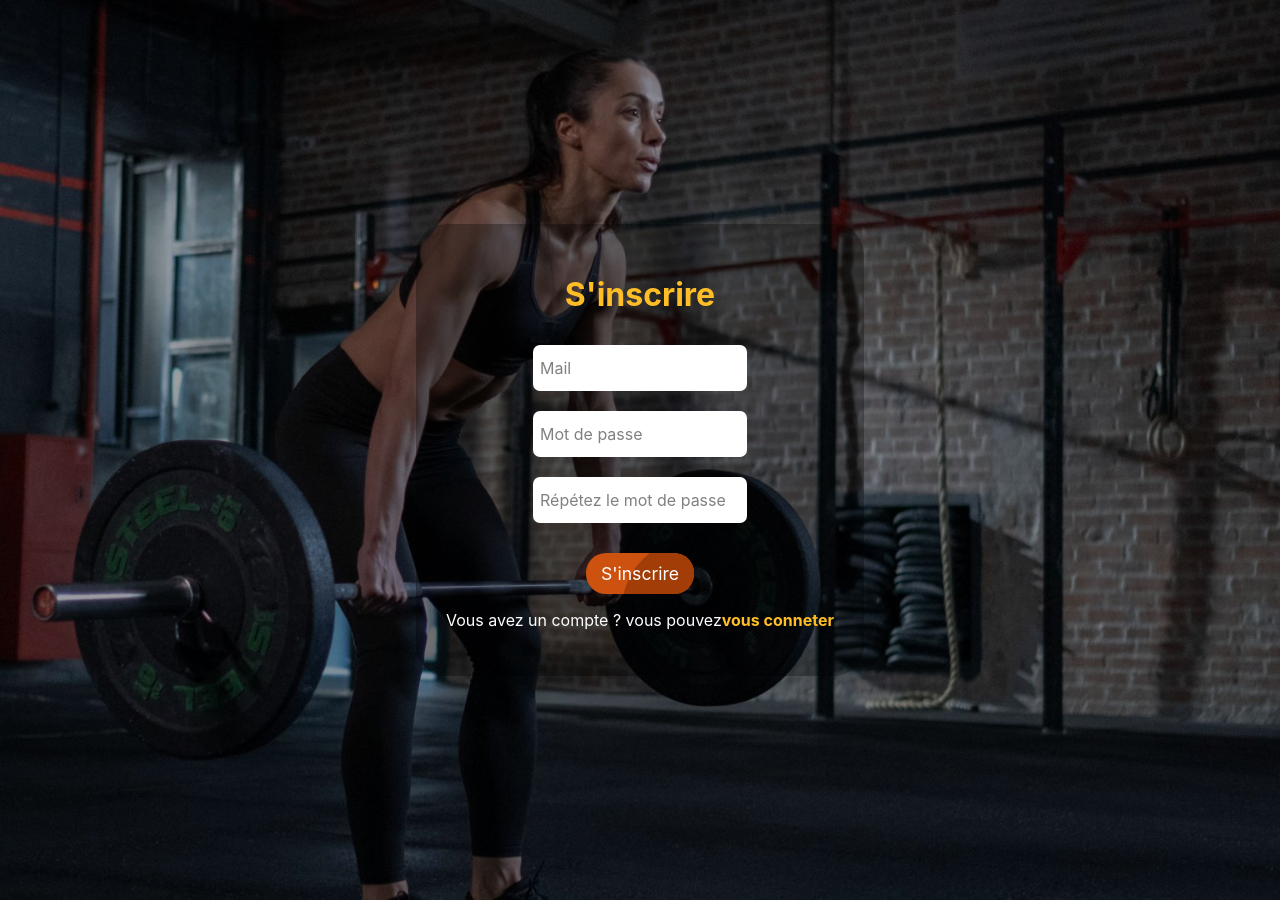
Test case: Signup composent › Err when pass are not the same
The image size is (1280, 900).
Note: user tape deux mots de passes non identiques
Type "uneadressemail@gmail.com" into the field with placeholder "Mail" at coordinates (640, 368), box top-left (533, 345), bottom-right (747, 391)
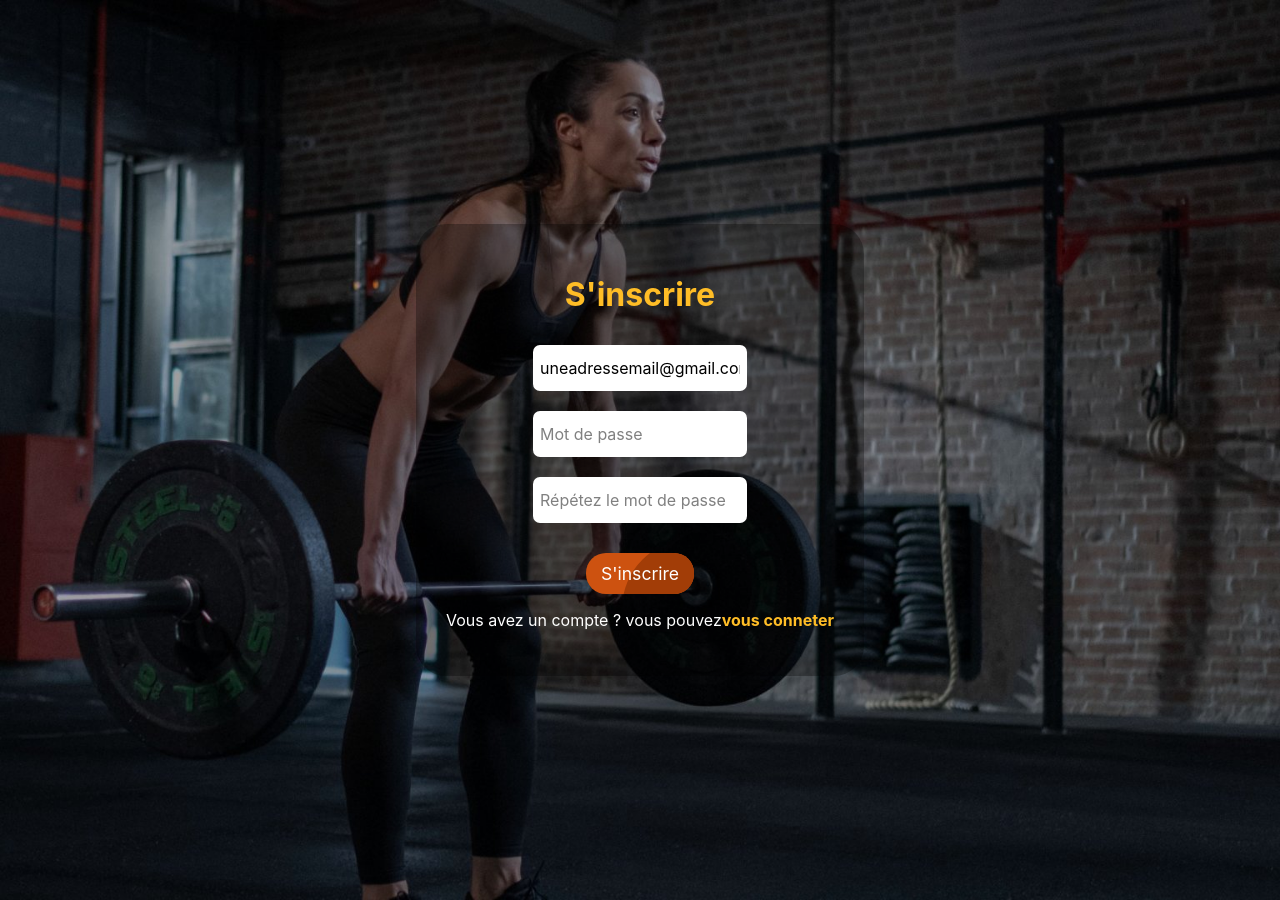
Type "motdepasse" into the password field with placeholder "Mot de passe" at coordinates (640, 434), box top-left (533, 411), bottom-right (747, 457)
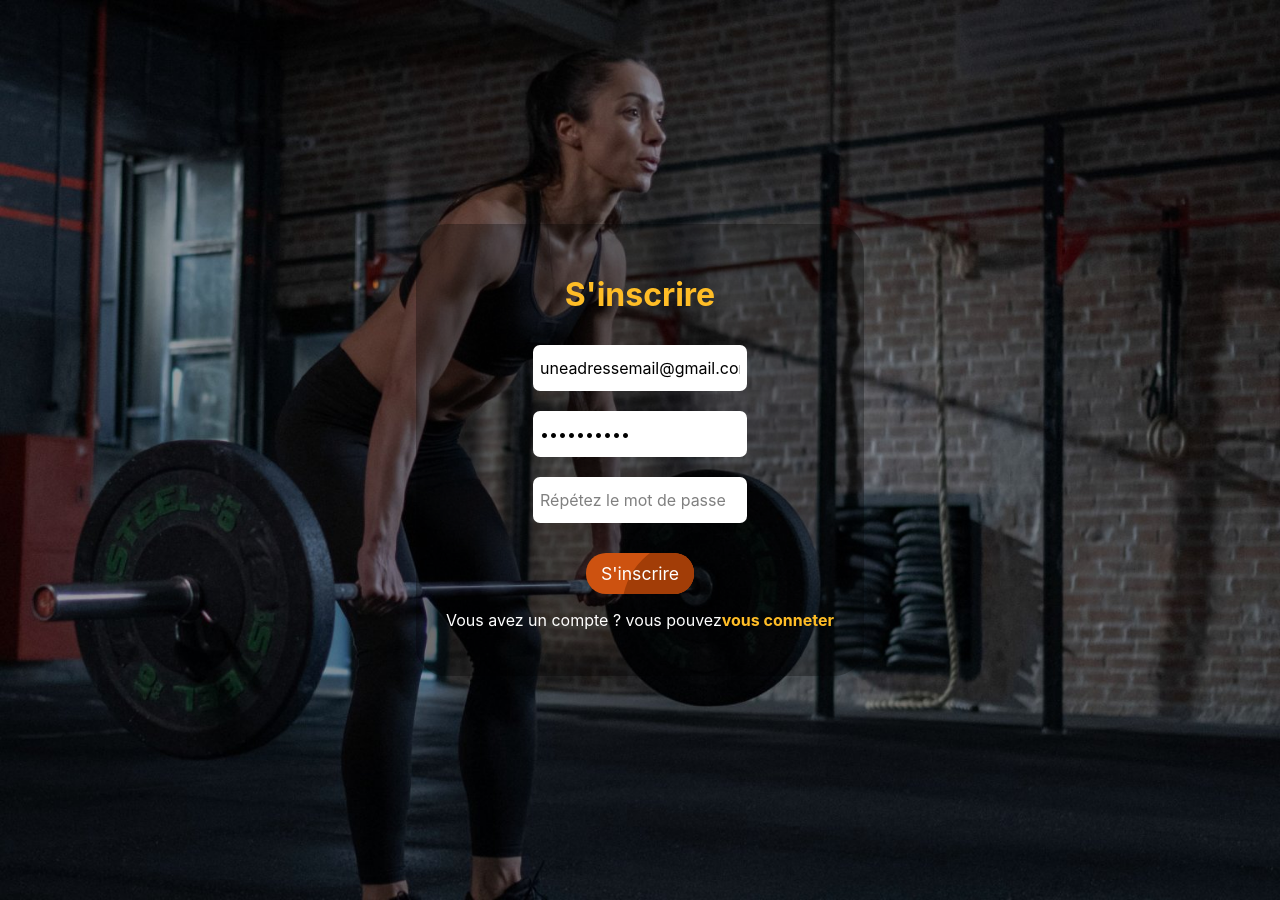
Type "motdepasse-erreur" into the password field with placeholder "Répétez le mot de passe" at coordinates (640, 500), box top-left (533, 477), bottom-right (747, 523)
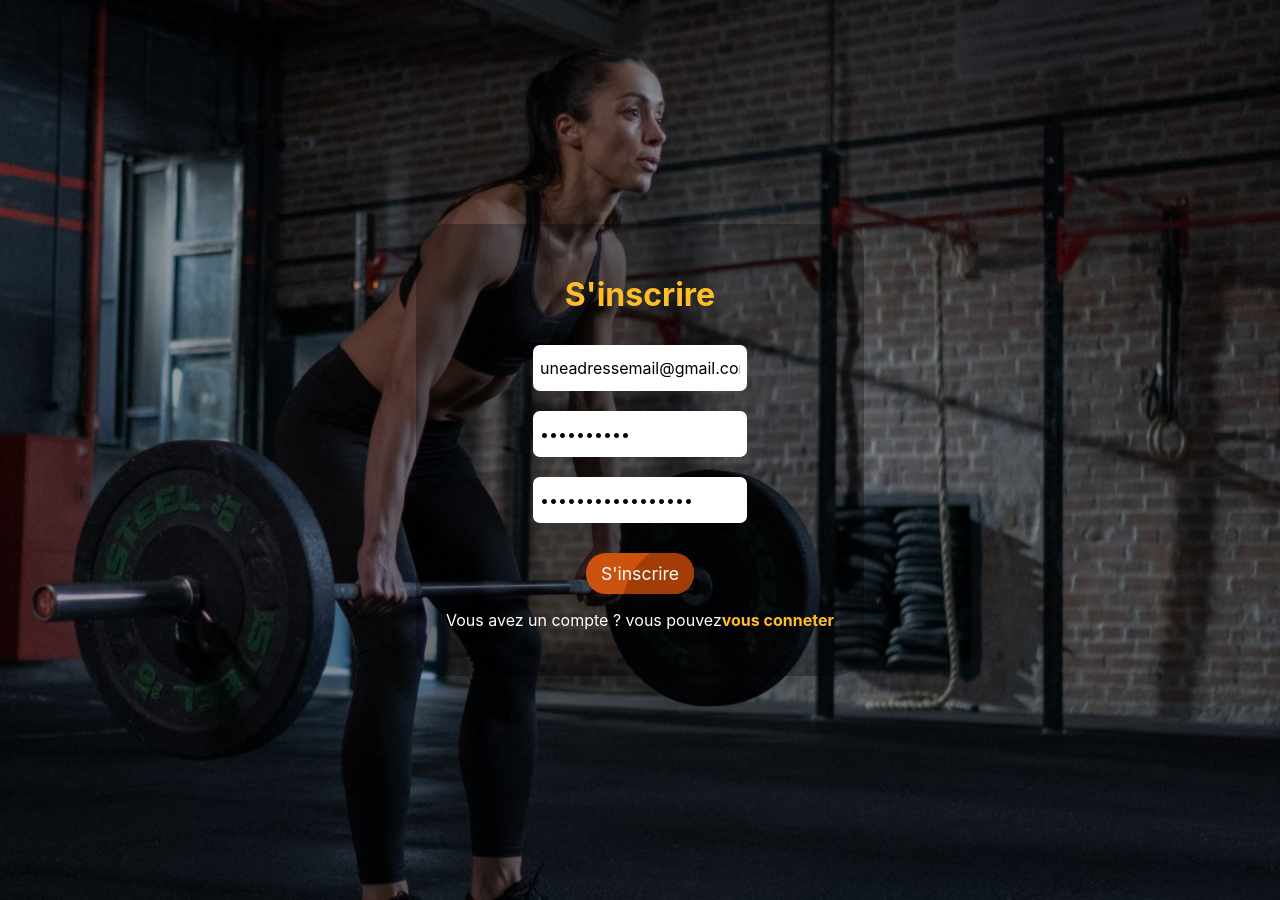
Click the button "S'inscrire" at coordinates (640, 574), box top-left (586, 553), bottom-right (694, 594)
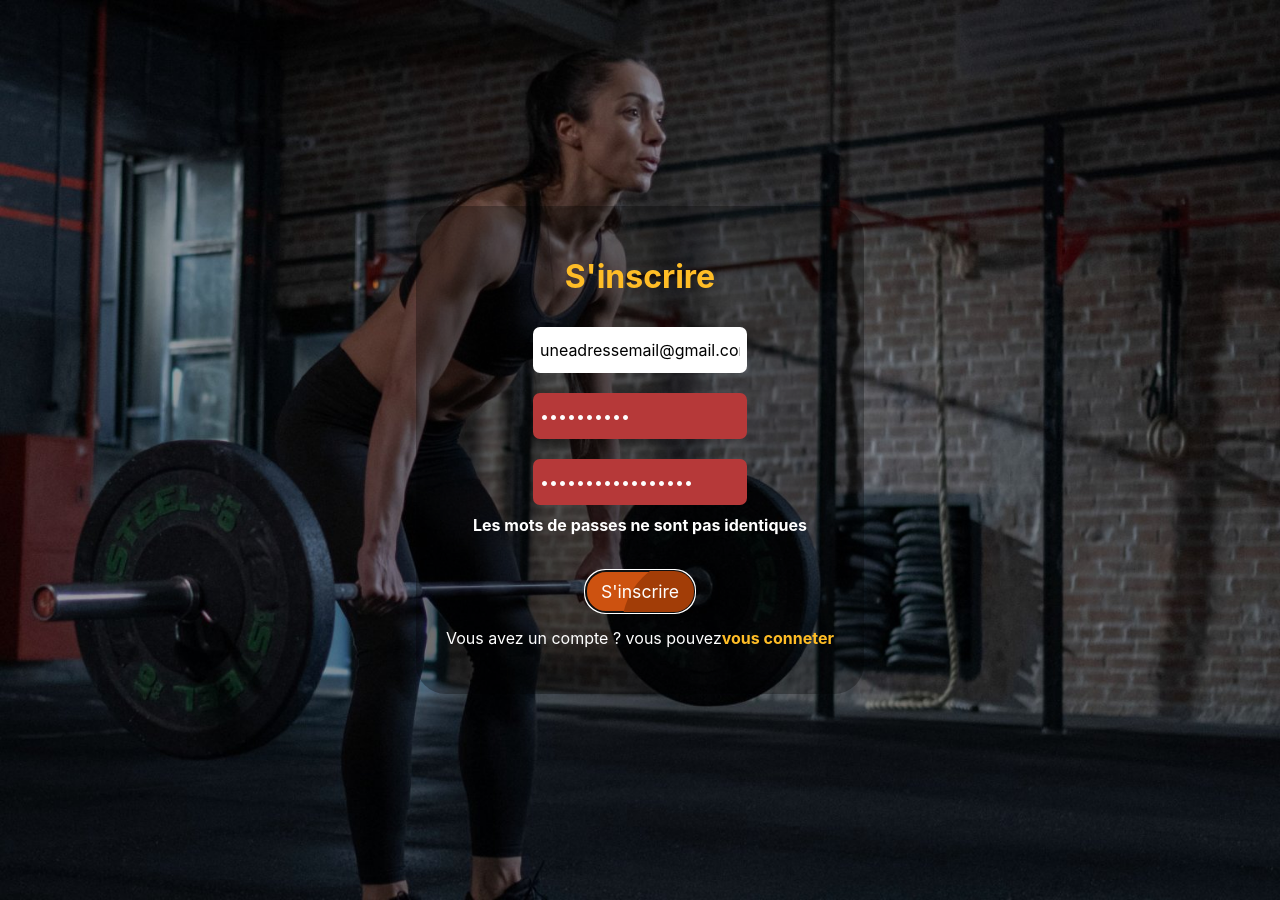
Result: the text "Les mots de passes ne sont pas identiques" is shown at top-left (473, 515), bottom-right (807, 535)
